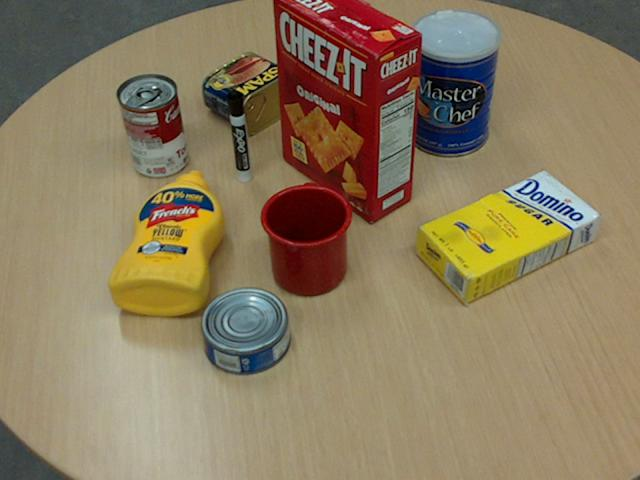cracker_box: (273, 0, 422, 219)
gelatin_box: (313, 45, 385, 106)
large_marker: (226, 89, 250, 183)
master_chef_can: (406, 10, 500, 157)
mug: (259, 183, 352, 295)
mustard_bottle: (107, 170, 224, 315)
potted_meat_can: (201, 51, 302, 134)
sugar_box: (414, 171, 600, 305)
tomato_soup_can: (116, 72, 186, 176)
tuna_fish_can: (200, 287, 290, 374)
